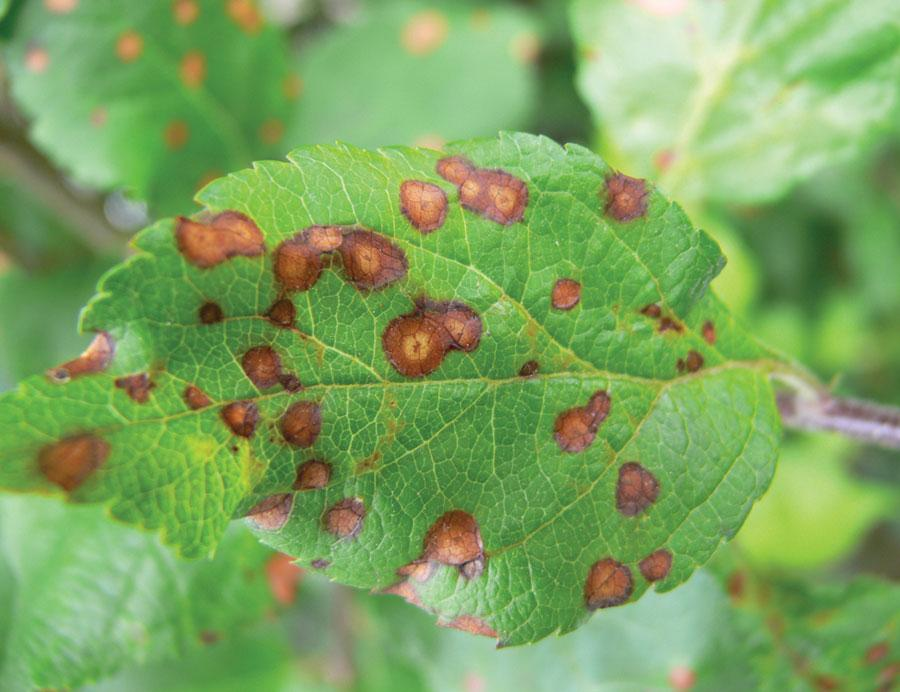Apple rust leaf: (1, 125, 822, 655)
